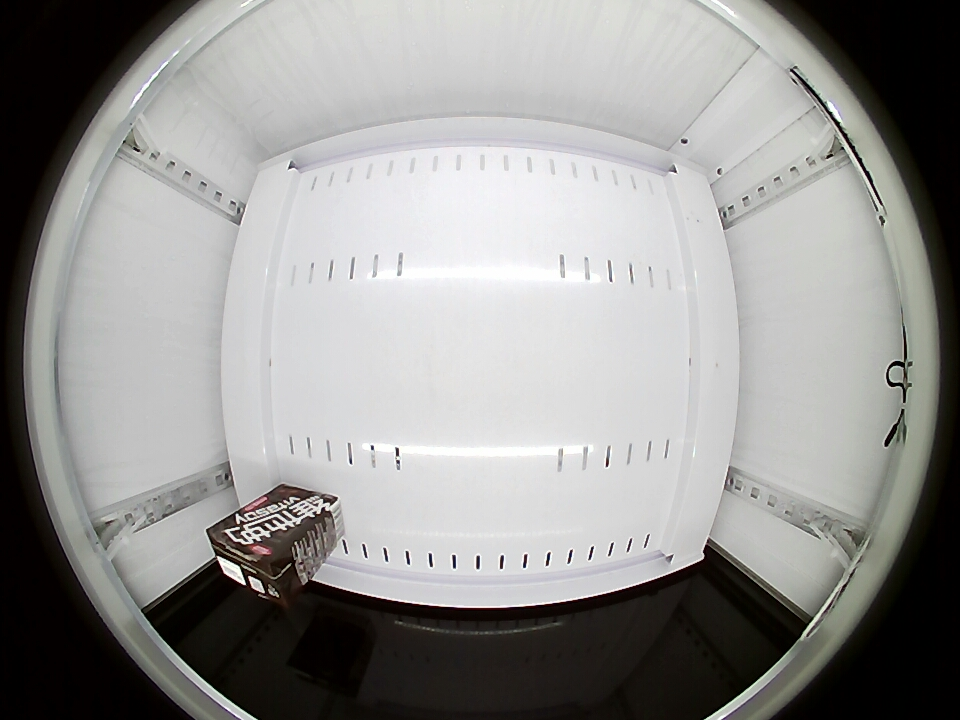weitanai2: (206, 515, 305, 603)
